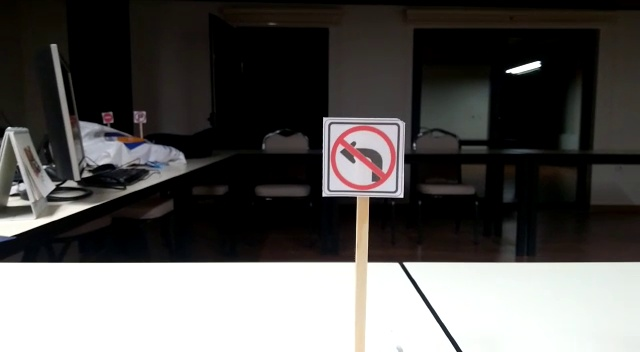sola_donulmez: (325, 123, 404, 193)
